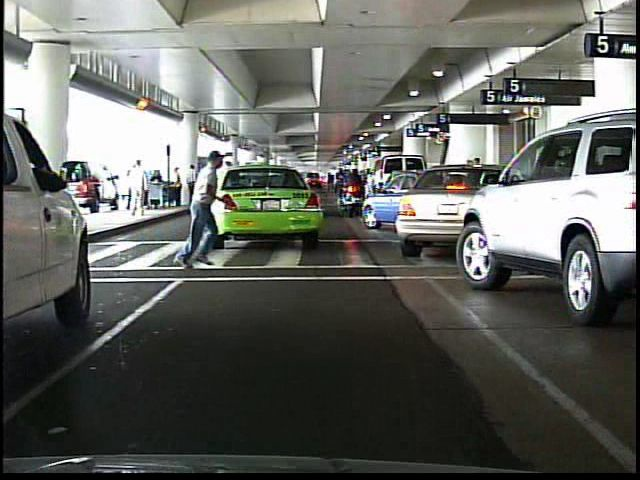person: (173, 148, 227, 270)
